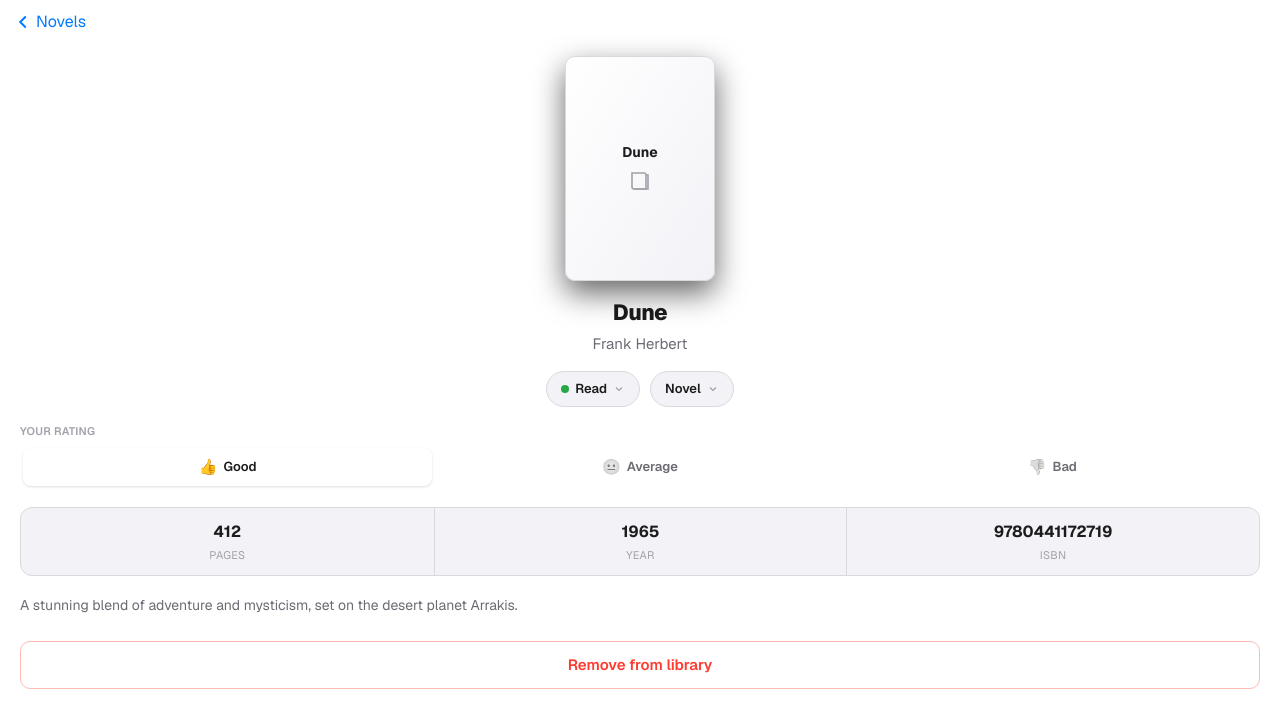
Test case: BookDetail › reverts the rating and shows an error when updating the rating fails
The image size is (1280, 720).
Click the button "👍 Good". click: (228,467)
box: [23,448,432,486]
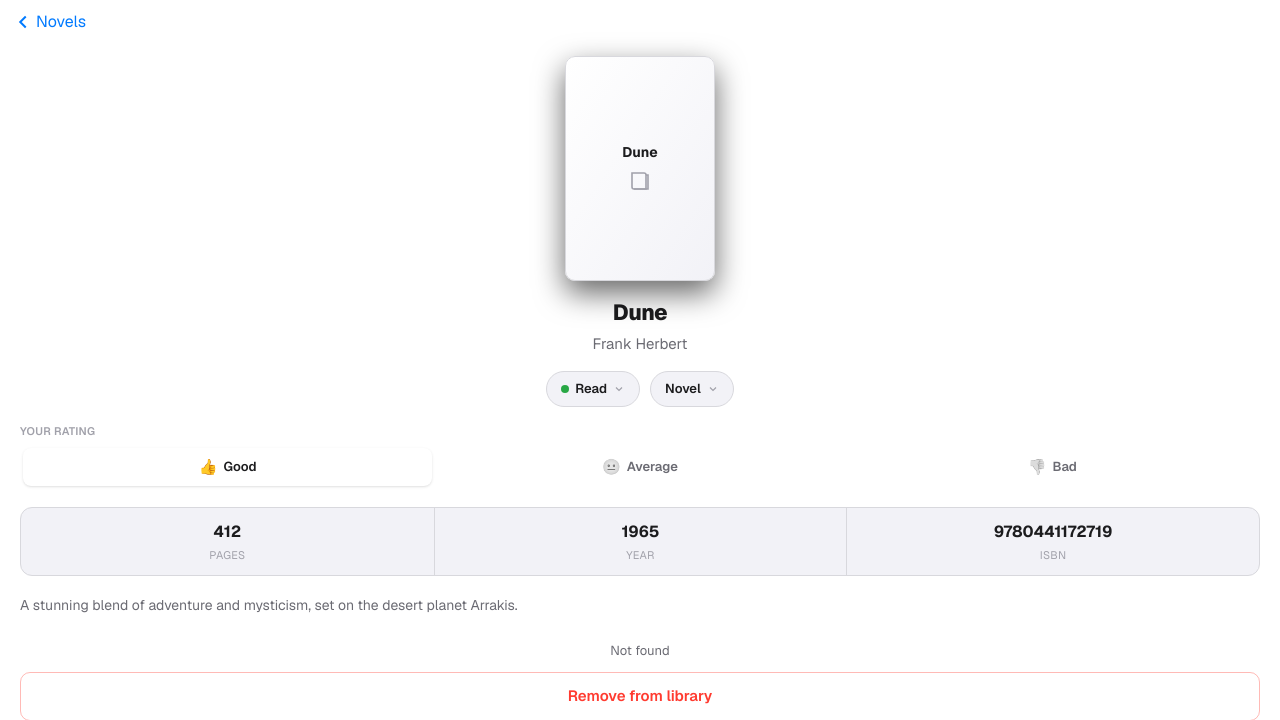
Now the text "Not found" is shown, box [610,642,670,659]
